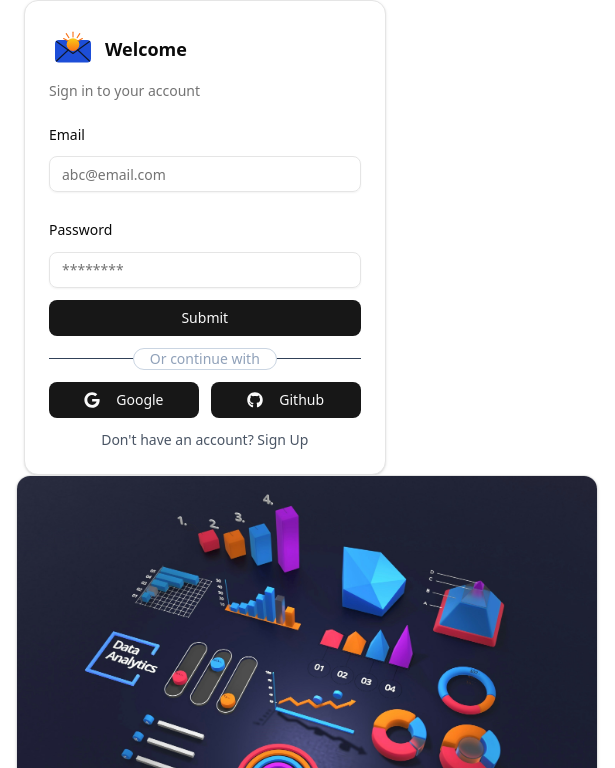
Test: SignIn Page › SignIn Component - Form Submission › shows error message for invalid email
This screenshot has width=615, height=768.
Step 1. Type "test@example.com" into the field labelled "Email" → (205, 174), box [49,156,361,192]
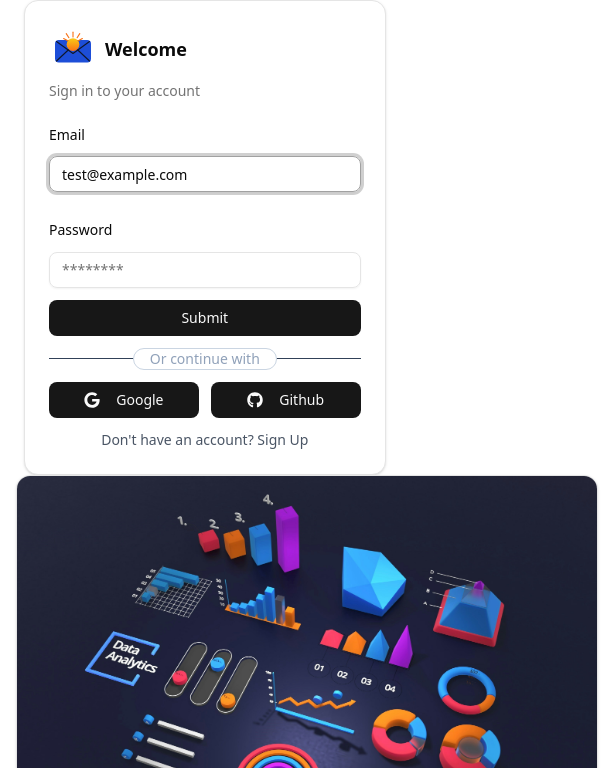
Step 2. Type "validpassword" into the field labelled "Password" → (205, 270), box [49,252,361,288]
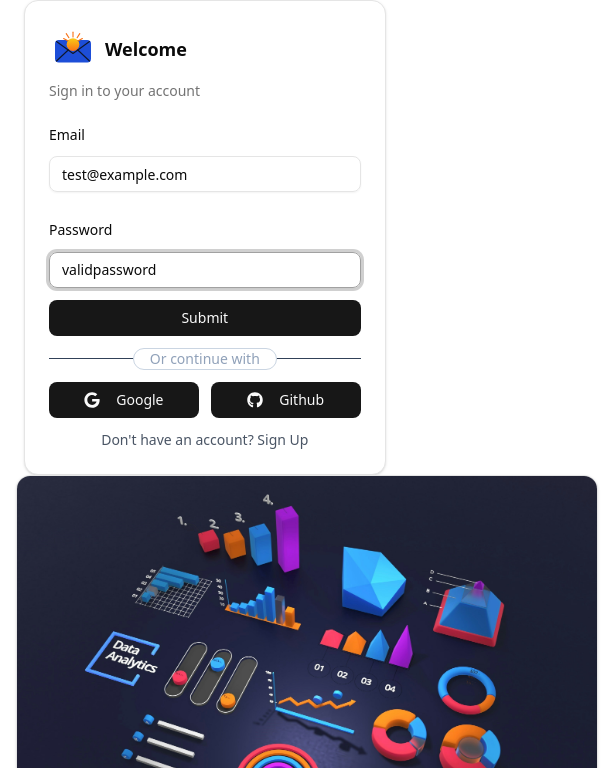
Step 3. Click the button "Submit" → (205, 318), box [49,300,361,336]
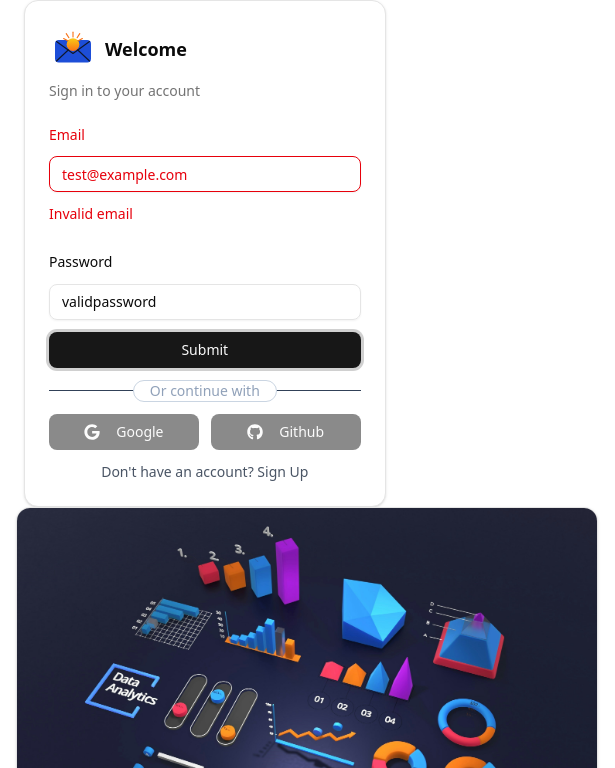
Result: the text "Invalid email" is shown at [49,204,133,223]
